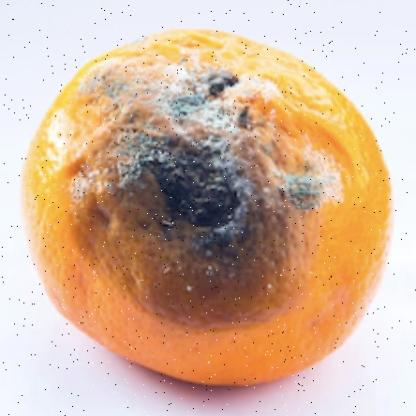rotten: (25, 29, 389, 391)
